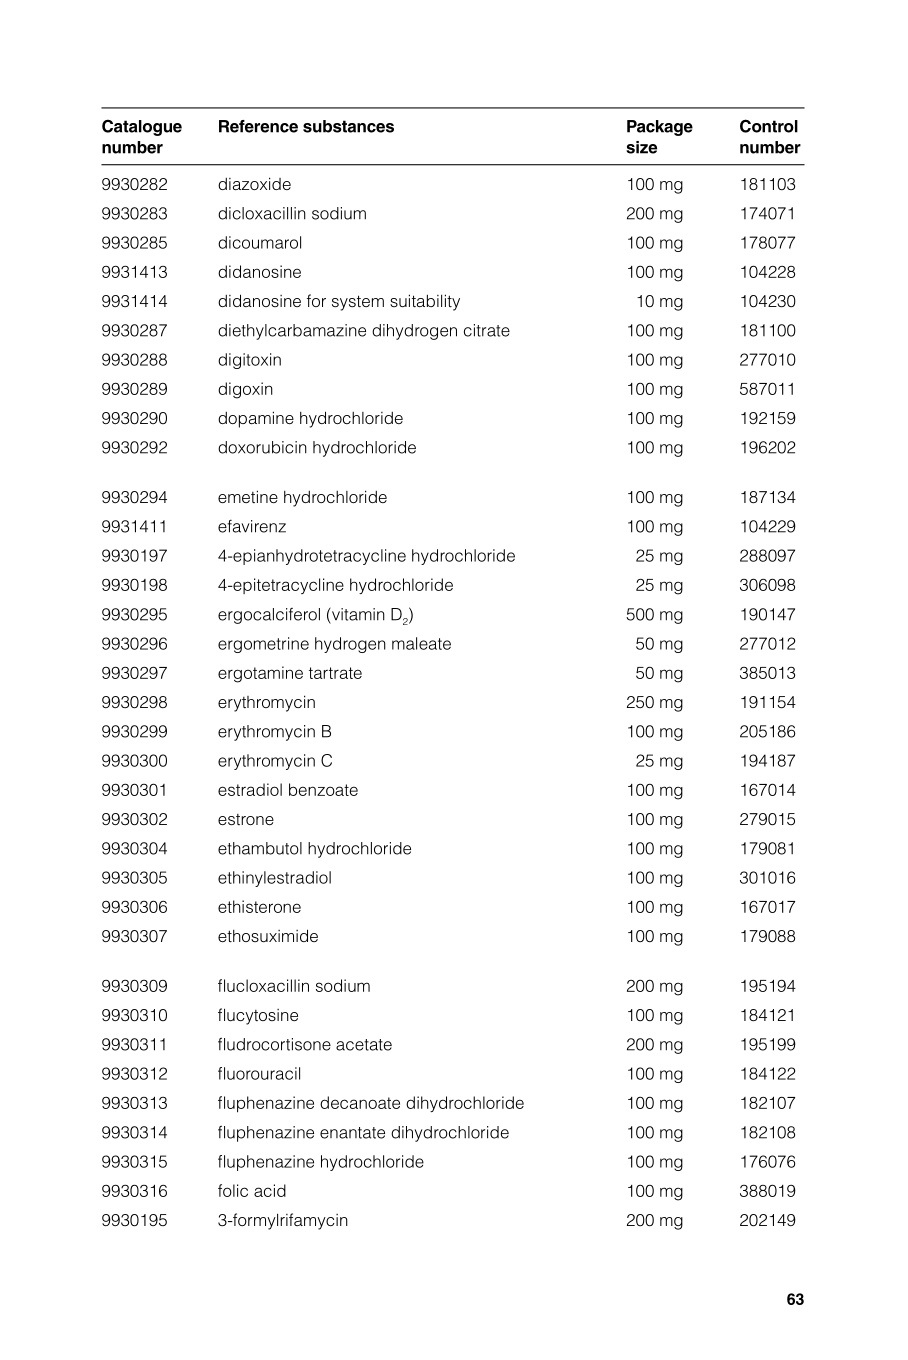partial_lined: (99, 105, 806, 1232)
